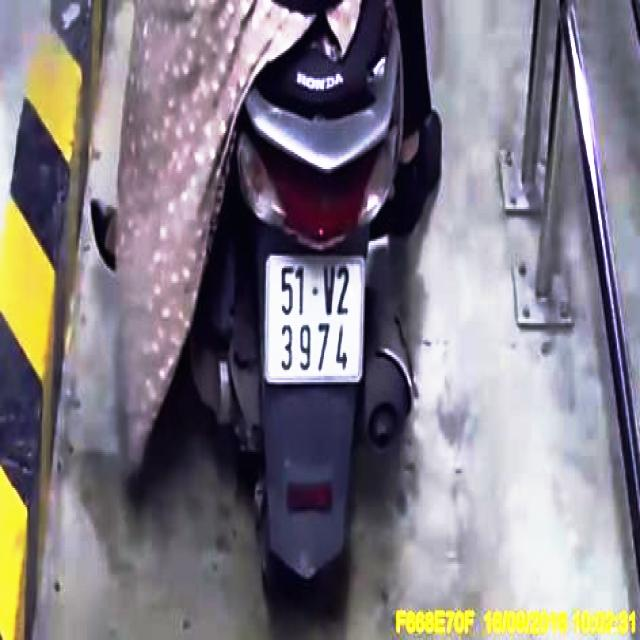license_plate: (265, 256, 366, 384)
